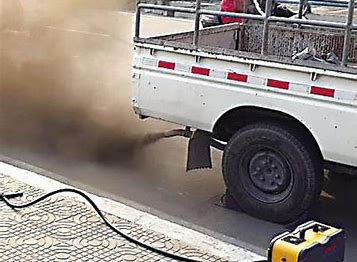smoke: (1, 57, 161, 169)
